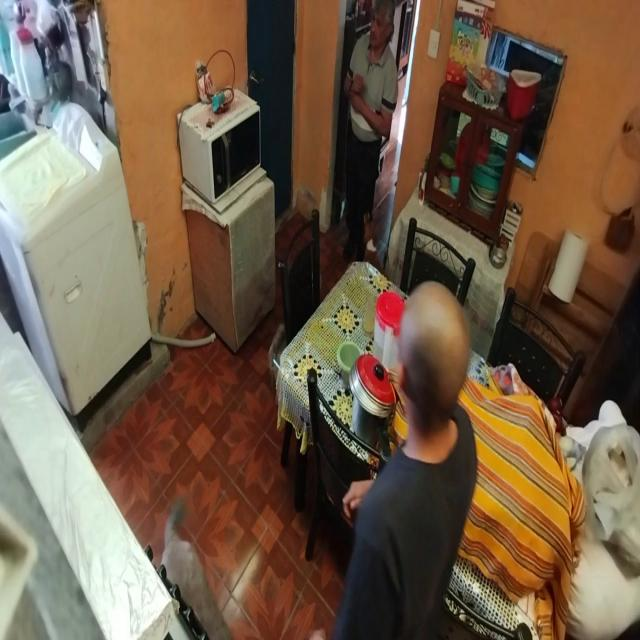adult: (343, 282, 479, 640), (342, 2, 398, 265)
